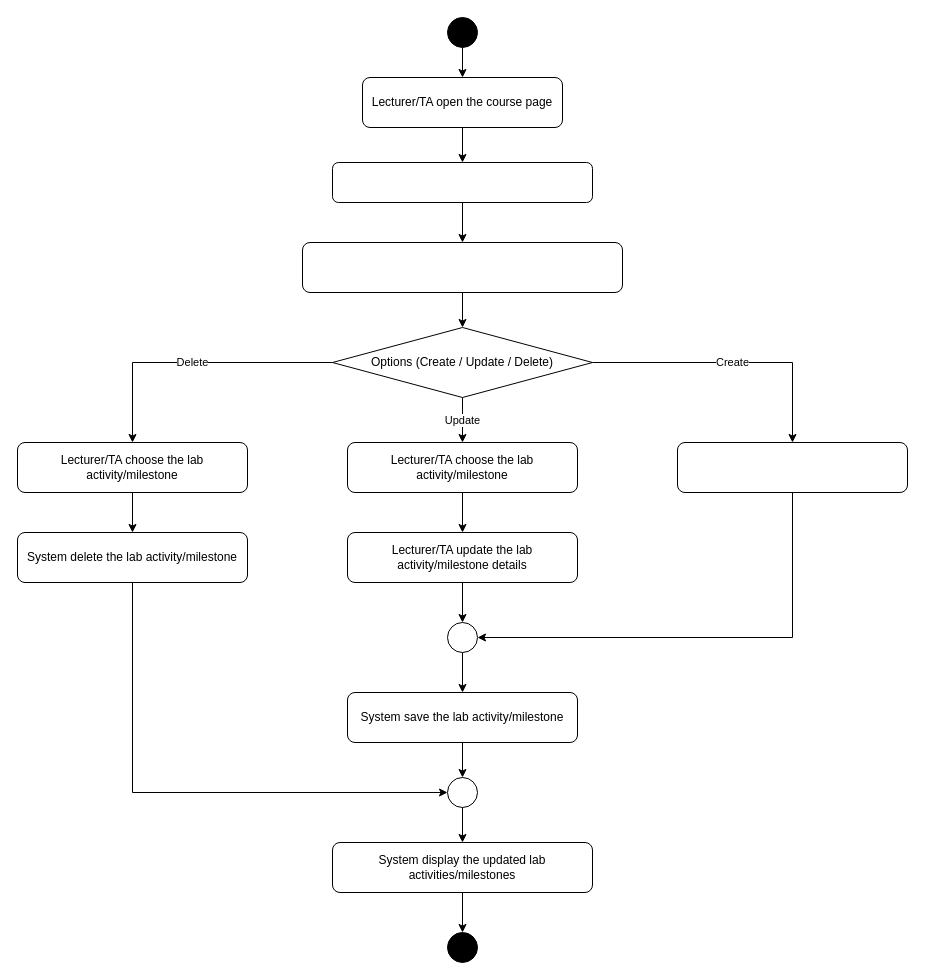
This 925x980 diagram has some shape labels left out. Each missing label, with the centre of its shape:
"Lecturer/TA enter the lab activity/milestone details" belongs at [792,467].
"Lecturer/TA open the lab activity/milestone page" belongs at [462,182].
"System display the course's lab activities/milestones" belongs at [462,267].
